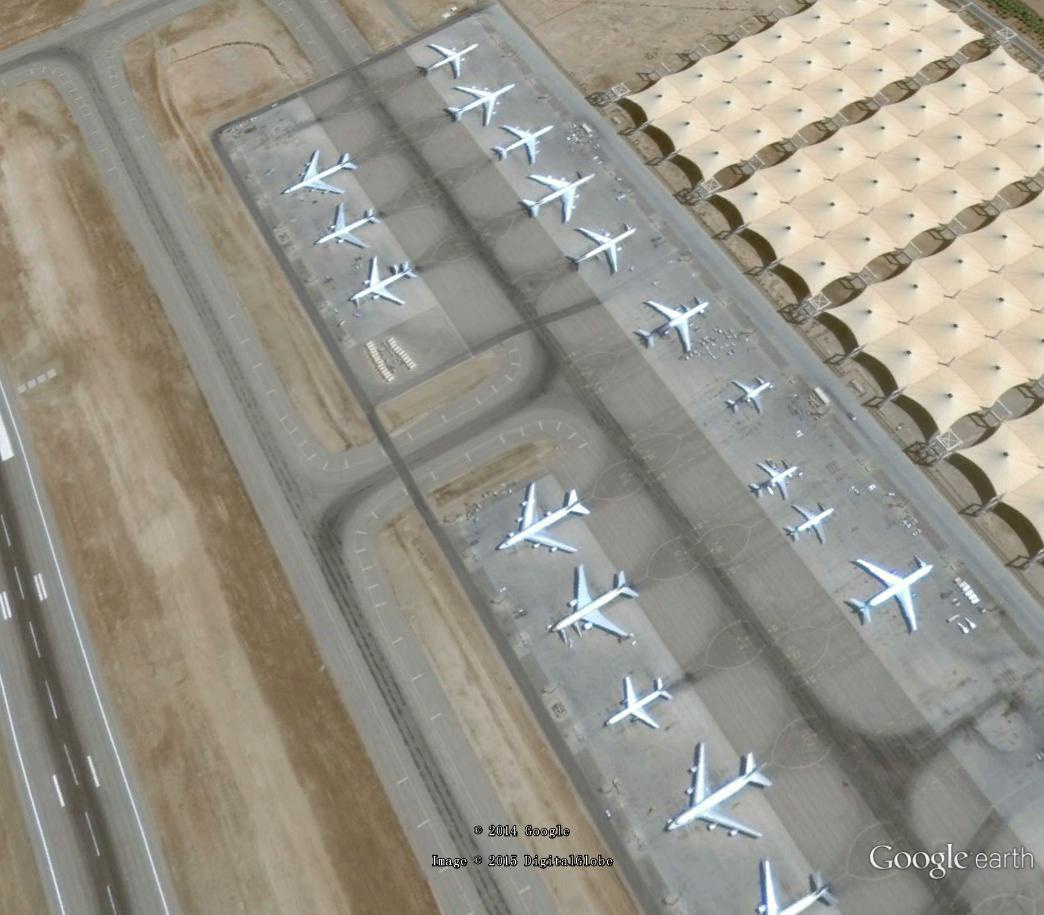aircraft: (667, 736, 777, 844), (546, 559, 645, 645), (841, 555, 942, 637), (498, 480, 598, 556), (750, 853, 844, 913), (634, 295, 714, 357), (603, 670, 679, 735), (348, 252, 426, 313), (516, 169, 598, 226), (282, 142, 361, 199), (564, 223, 640, 279), (313, 198, 384, 253), (444, 81, 517, 129), (492, 120, 558, 169), (781, 502, 843, 550), (418, 42, 484, 84), (745, 456, 802, 504), (721, 373, 775, 415)
